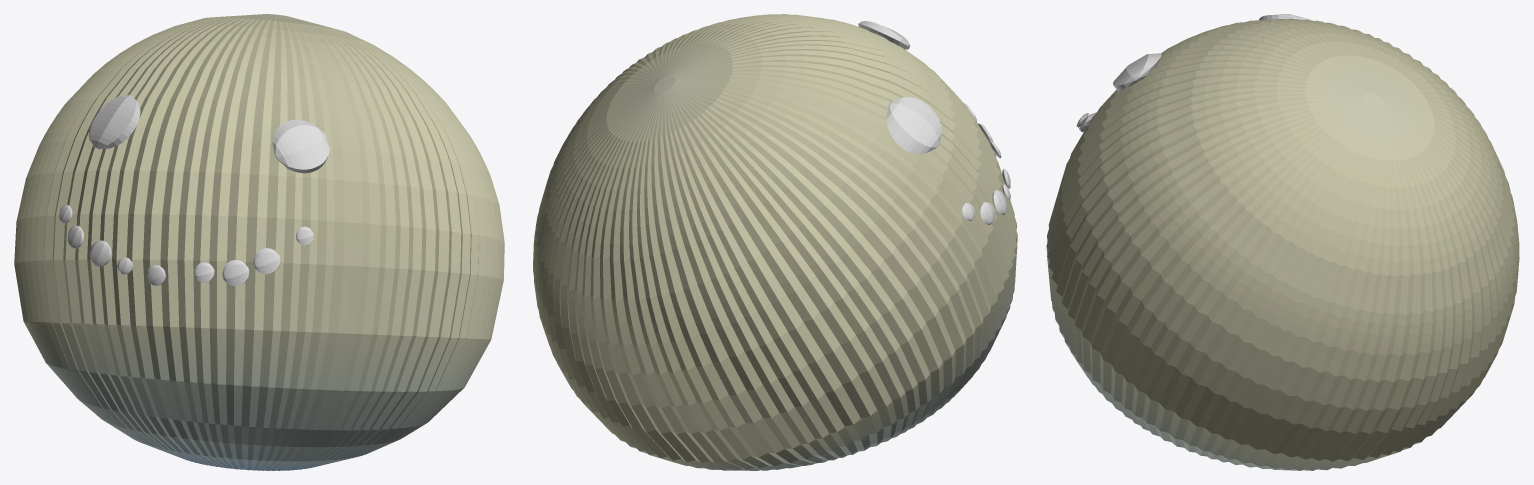
File: Snowman-Head-v2.fbx
The picture shows the model from 3 angles, left to right: view 1: azimuth 30°, elevation 25°; view 2: azimuth 150°, elevation 25°; view 3: azimuth 270°, elevation 25°; orthographic projection. The views are drawn at different scales.
Parts seen in each view (by area): view 1: Head, Face; view 2: Head, Face; view 3: Head, Face.
Boxes of the visible parts, x1,y1,x2,y2 form: Head: (14,14,504,470); Face: (59,95,329,285); Head: (533,14,1017,470); Face: (858,21,1010,224); Head: (1046,19,1519,470); Face: (1076,14,1309,132).
Size of the model in its own units: 5.52 by 5.05 by 5.55.
